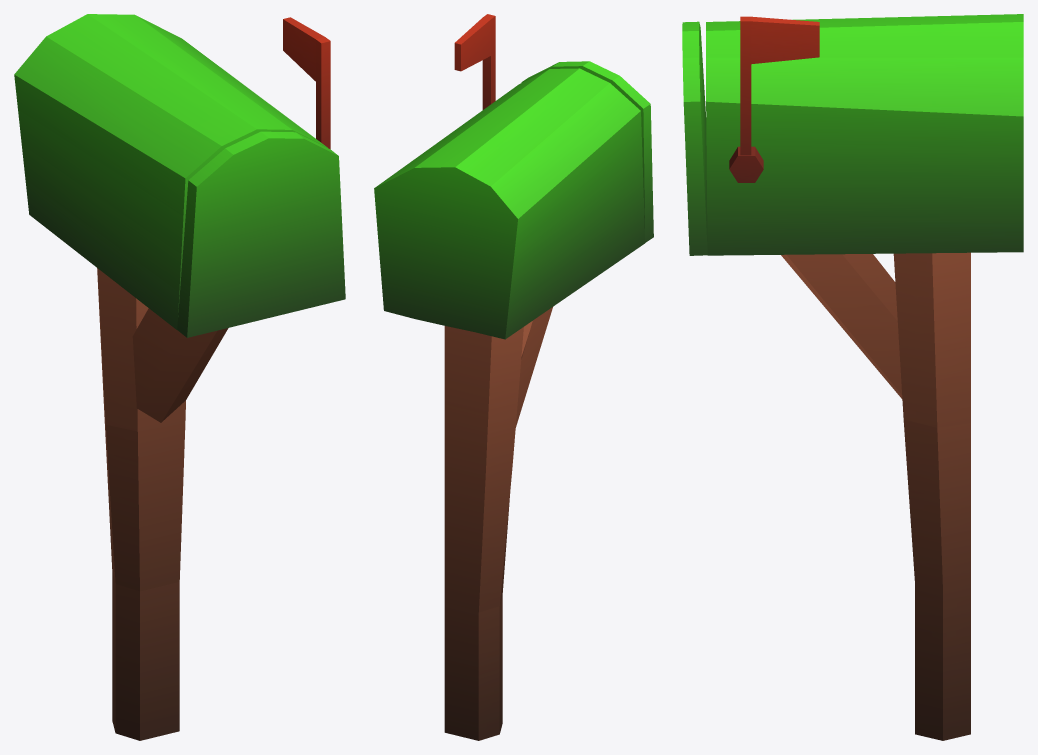
3 renders of one model, left to right at view 1: azimuth 30°, elevation 25°; view 2: azimuth 150°, elevation 25°; view 3: azimuth 270°, elevation 25°, orthographic. The views are drawn at different scales.
Parts seen in each view (by area): view 1: 9.001; view 2: 9.001; view 3: 9.001.
Boxes of the visible parts, left/top/right/bottom form: 9.001: left=14, top=14, right=345, bottom=740; 9.001: left=374, top=14, right=653, bottom=740; 9.001: left=682, top=14, right=1023, bottom=740.
Size of the model in its own units: 0.7957 by 3.16 by 1.31.
1 material, 1 textured.
